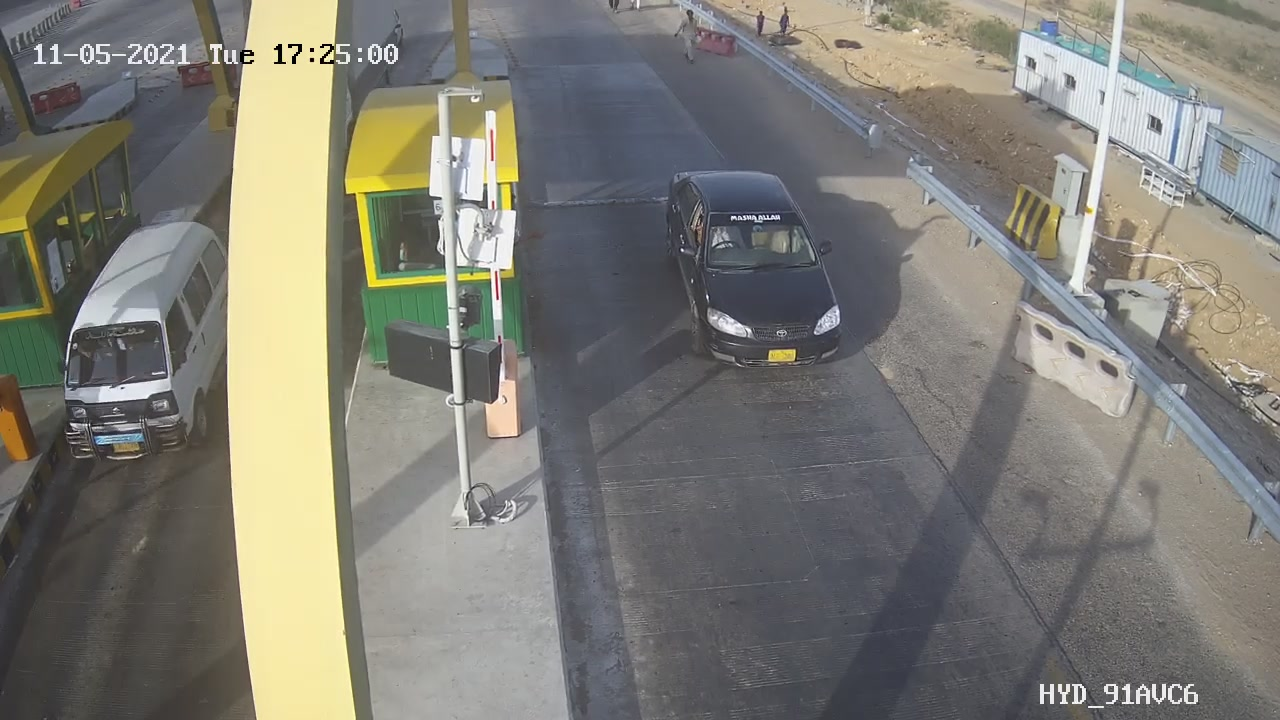F1: (644, 148, 868, 383)
